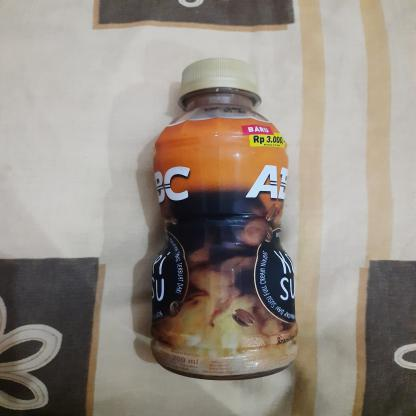plastic: (143, 56, 304, 383)
